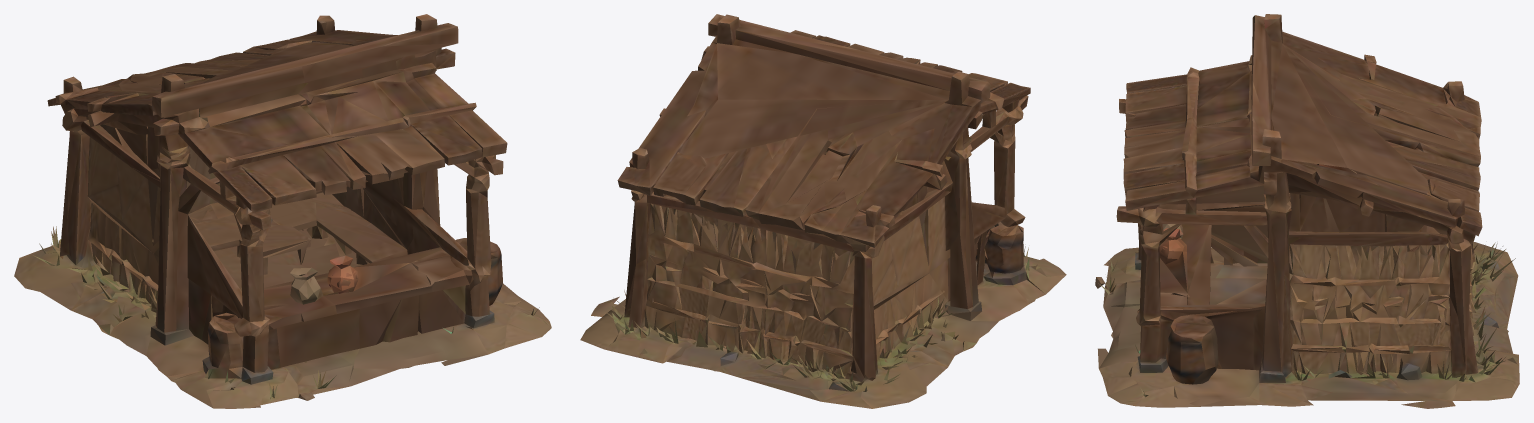
The model's file is market.glb.
3 views of the same model, side by side, from view 1: azimuth 30°, elevation 25°; view 2: azimuth 150°, elevation 25°; view 3: azimuth 270°, elevation 25° (orthographic). The views are drawn at different scales.
Bounding box in the file's own units: 1.77 × 1.23 × 1.89.
1 material, 1 textured.
